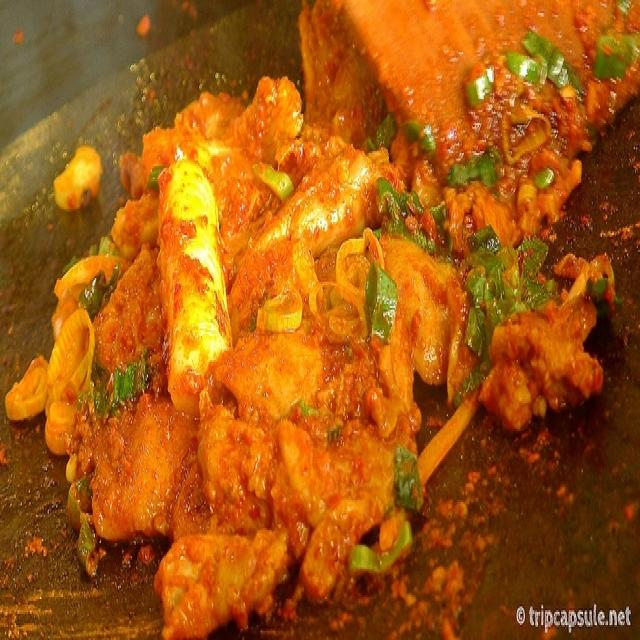鸡肉料理 含炸鸡: (30, 15, 620, 625)
